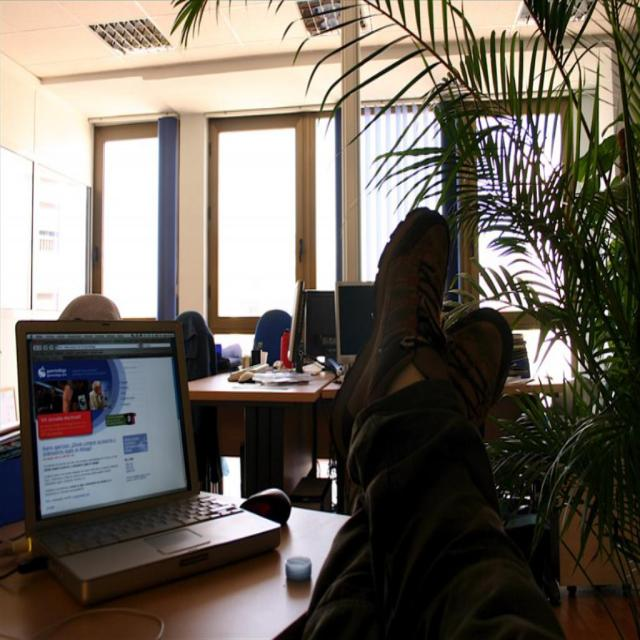chair: (252, 309, 292, 366), (57, 295, 122, 321)
desk: (0, 488, 349, 638)
laptop: (18, 318, 286, 604)
mouse: (240, 487, 292, 526)
person: (300, 206, 566, 632)
tv: (336, 282, 376, 361), (300, 287, 338, 364)
